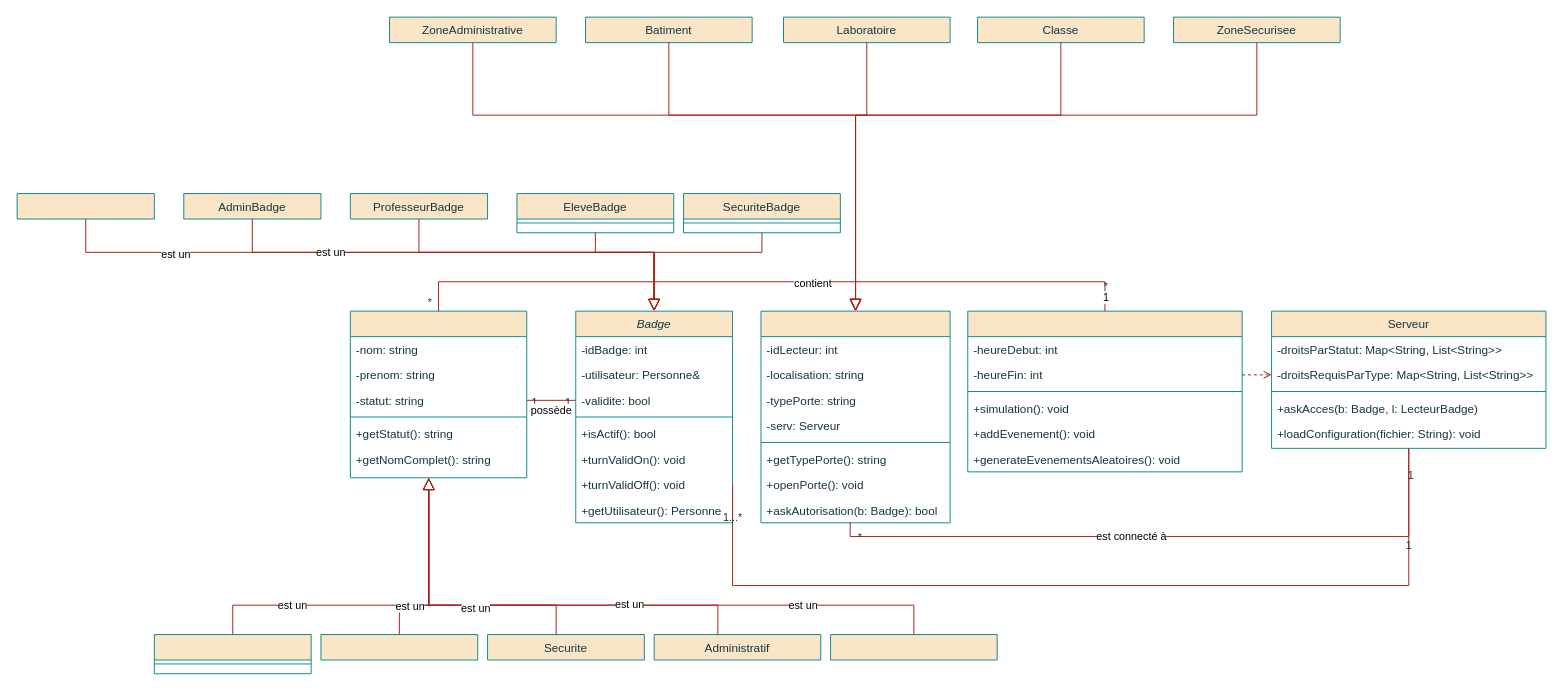
Some shapes in this 1563 by 691 pixel diagram are drawn without their labels. The shapes that lost their labels are listed below. From the top down, each one's box as (x1, y1, x2, y2) in pixels, then its label:
(16, 193, 154, 219): ChercheurBadge
(349, 310, 527, 478): Personne
(967, 310, 1242, 472): Scheduler
(760, 310, 950, 523): LecteurBadge
(153, 634, 311, 674): Eleve
(320, 634, 478, 660): Professeur
(830, 634, 997, 660): Chercheur
